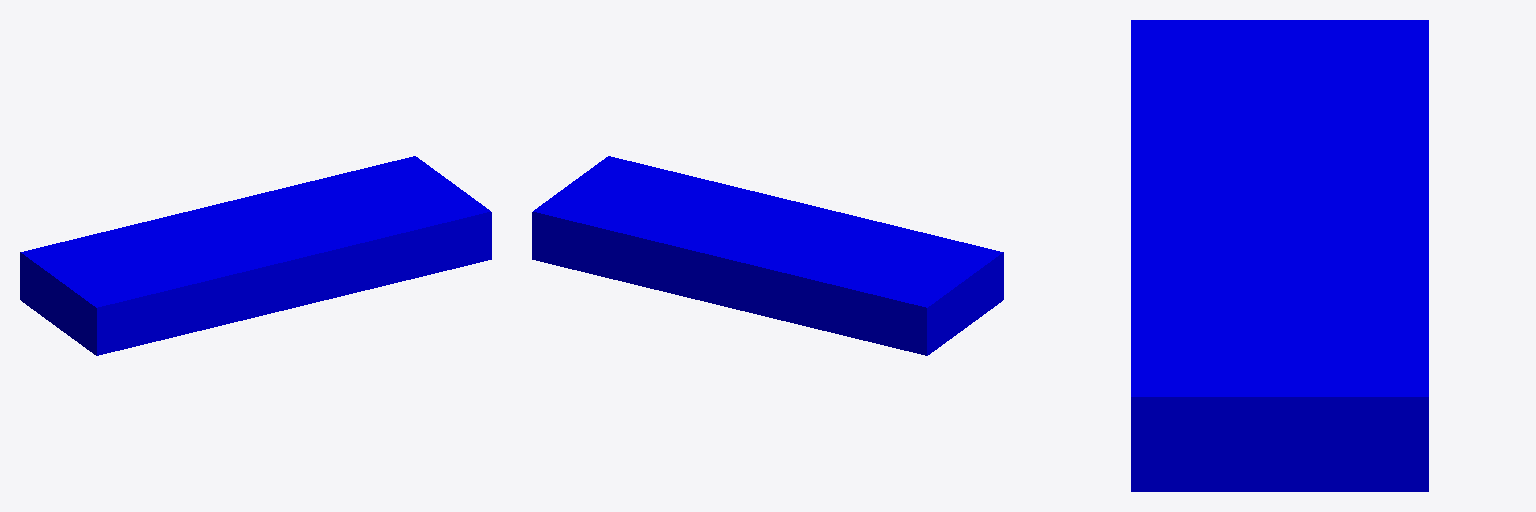
The robot description file, URDF, robot "slate.urdf":
<?xml version="0.0" ?>
<robot name="slate.urdf">
  <link name="baseLink">
    <contact>
      <lateral_friction value="1.0"/>
      <inertia_scaling value="3.0"/>
    </contact>
    <inertial>
      <origin rpy="0 0 0" xyz="0 0 0"/>
       <mass value=".4"/>
       <inertia ixx="1" ixy="0" ixz="0" iyy="1" iyz="0" izz="1"/>
    </inertial>
    <visual>
      <origin rpy="0 0 0" xyz="0 0 0"/>
      <geometry>
        <mesh filename="slate.obj" scale=".3 .1 .035"/>
      </geometry>
       <material name="blue">
        <color rgba="0 0 1 1"/>
      </material>
    </visual>
    <collision>
      <origin rpy="0 0 0" xyz="0 0 0"/>
      <geometry>
    <box size=".3 .1 .035"/>
      </geometry>
    </collision>
  </link>
</robot>

--- Facts derived from the render (not from the file) ---
The picture shows the robot from 3 angles, left to right: view 1: azimuth 30°, elevation 25°; view 2: azimuth 150°, elevation 25°; view 3: azimuth 270°, elevation 25°; orthographic projection.
Model slate.urdf with 1 links and 0 joints (none), rooted at baseLink, posed all joints at 0.
Visible links, largest first — view 1: baseLink; view 2: baseLink; view 3: baseLink.
Boxes of the visible links, box(x1,y1,x2,y2) form: baseLink: box(20, 156, 491, 355); baseLink: box(532, 156, 1003, 355); baseLink: box(1131, 20, 1428, 491).
Size in the robot's own frame: 0.3 by 0.1 by 0.035 metres.
Meshes: 1 distinct files referenced, 1 mesh visuals loaded (1 OBJ).